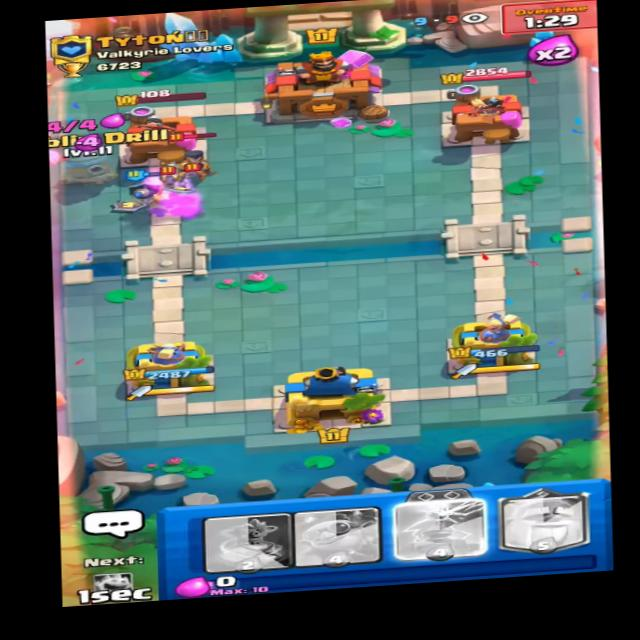bats: (154, 164, 187, 182), (181, 162, 210, 179)
night-witch: (168, 131, 226, 181)
